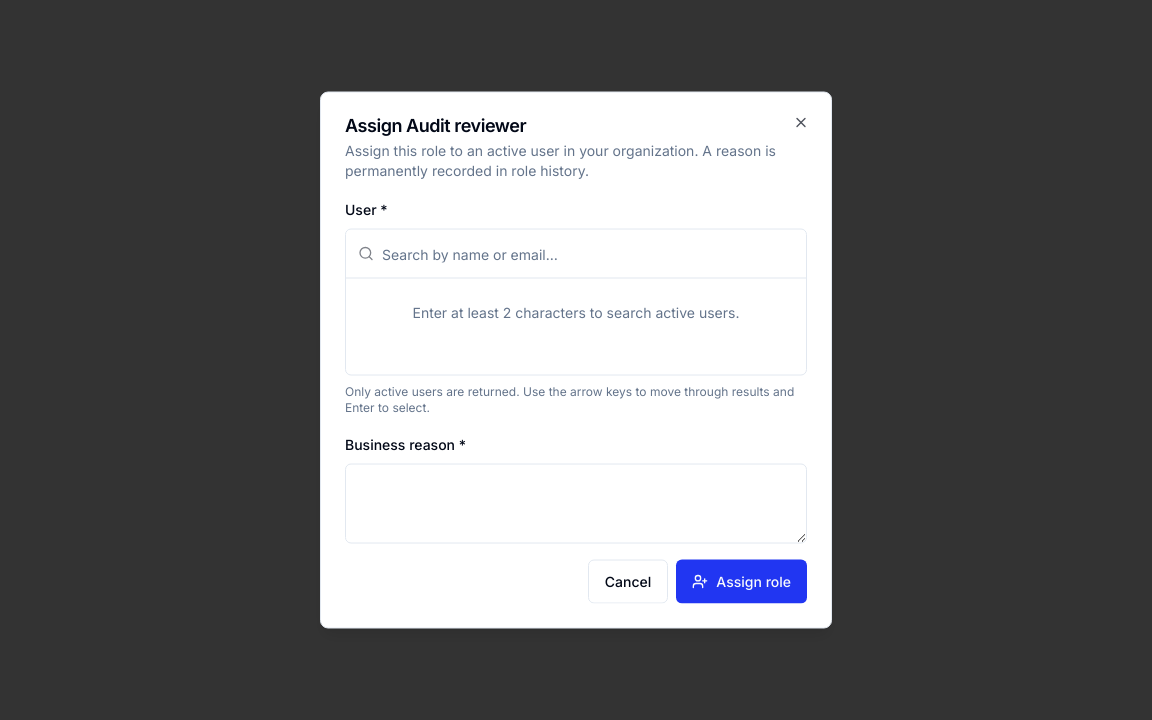
directory-backed role assignment picker › exposes a recoverable search error and retries on request
Type "Ada" into the dropdown named "Search active users" at (588, 254), box [382,230,794,278]
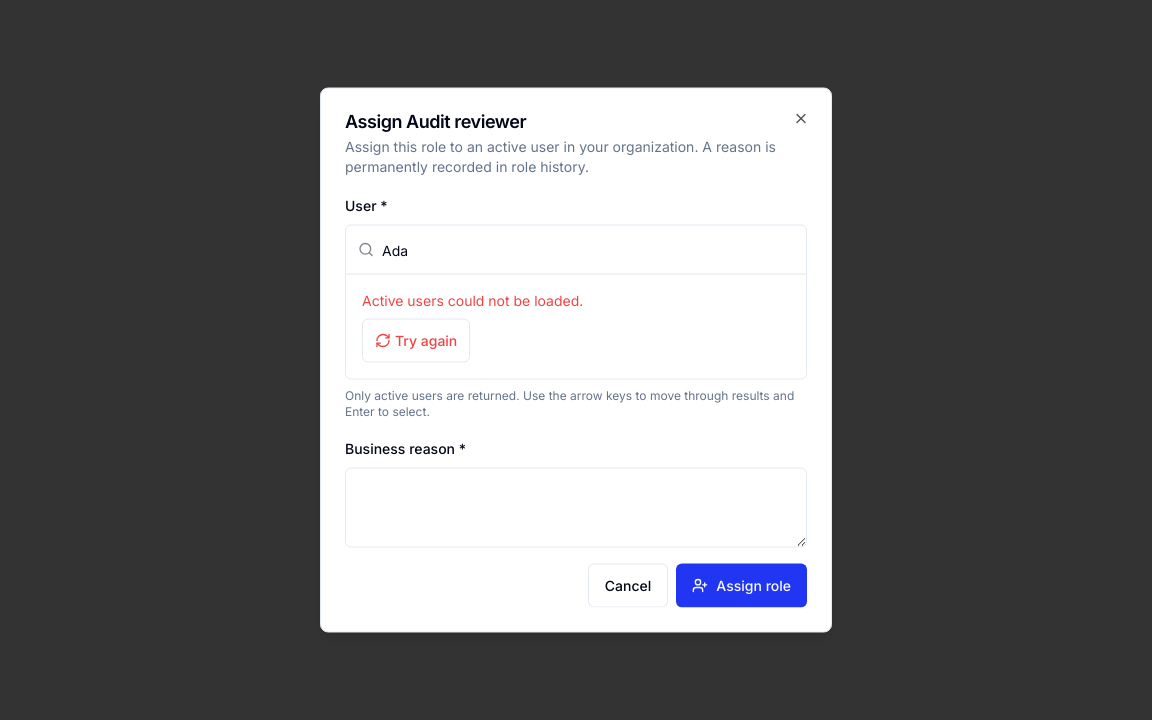
Check: the message shows "Active users could not be loaded.", box [362,292,583,362]
Click the button "Try again" at (416, 340), box [362,318,470,362]
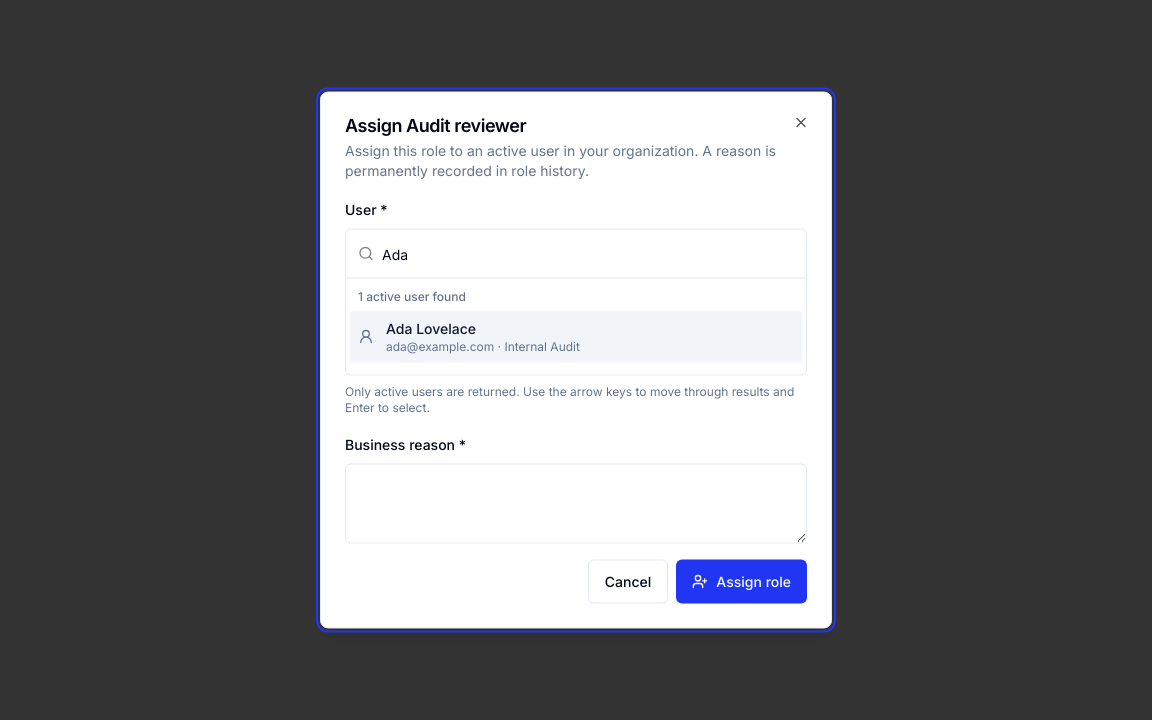
Check: the text "Ada Lovelace" is shown, box [386,320,476,336]
